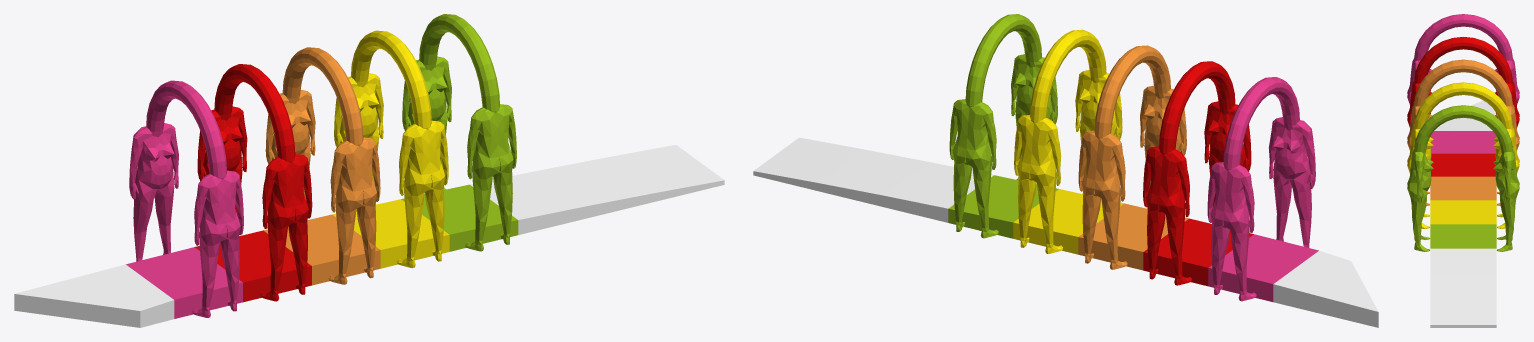
Rendered from SM_Entrada.fbx.
The picture shows the model from 3 angles, left to right: view 1: azimuth 30°, elevation 25°; view 2: azimuth 150°, elevation 25°; view 3: azimuth 270°, elevation 25°; orthographic projection. The views are drawn at different scales.
Visible parts, largest first — view 1: CAMINO, ESTATUA_05, ESTATUA_04, ESTATUA_03, ESTATUA_02, ESTATUA_01; view 2: ESTATUA_05, CAMINO, ESTATUA_04, ESTATUA_03, ESTATUA_02, ESTATUA_01; view 3: ESTATUA_01, CAMINO, ESTATUA_02, ESTATUA_03, ESTATUA_04, ESTATUA_05.
Boxes of the visible parts, left/top/right/bottom form: CAMINO: left=14, top=145, right=724, bottom=327; ESTATUA_05: left=126, top=80, right=243, bottom=318; ESTATUA_04: left=195, top=64, right=312, bottom=302; ESTATUA_03: left=263, top=47, right=380, bottom=285; ESTATUA_02: left=332, top=30, right=449, bottom=268; ESTATUA_01: left=401, top=14, right=518, bottom=251; ESTATUA_05: left=1207, top=77, right=1318, bottom=301; CAMINO: left=753, top=137, right=1378, bottom=327; ESTATUA_04: left=1143, top=61, right=1253, bottom=286; ESTATUA_03: left=1078, top=45, right=1188, bottom=270; ESTATUA_02: left=1013, top=29, right=1123, bottom=254; ESTATUA_01: left=948, top=14, right=1058, bottom=238; ESTATUA_01: left=1407, top=105, right=1519, bottom=251; CAMINO: left=1430, top=100, right=1496, bottom=327; ESTATUA_02: left=1407, top=82, right=1519, bottom=228; ESTATUA_03: left=1407, top=59, right=1519, bottom=206; ESTATUA_04: left=1407, top=37, right=1519, bottom=176; ESTATUA_05: left=1407, top=14, right=1519, bottom=153.
Size of the model in its own units: 2099 by 629 by 451.
